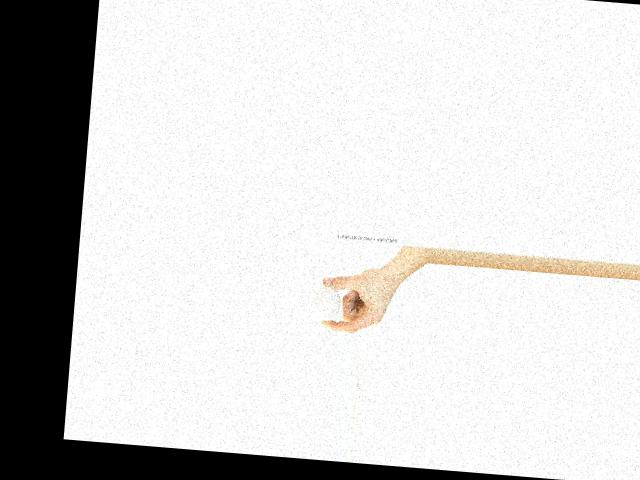egg: (314, 285, 342, 322)
